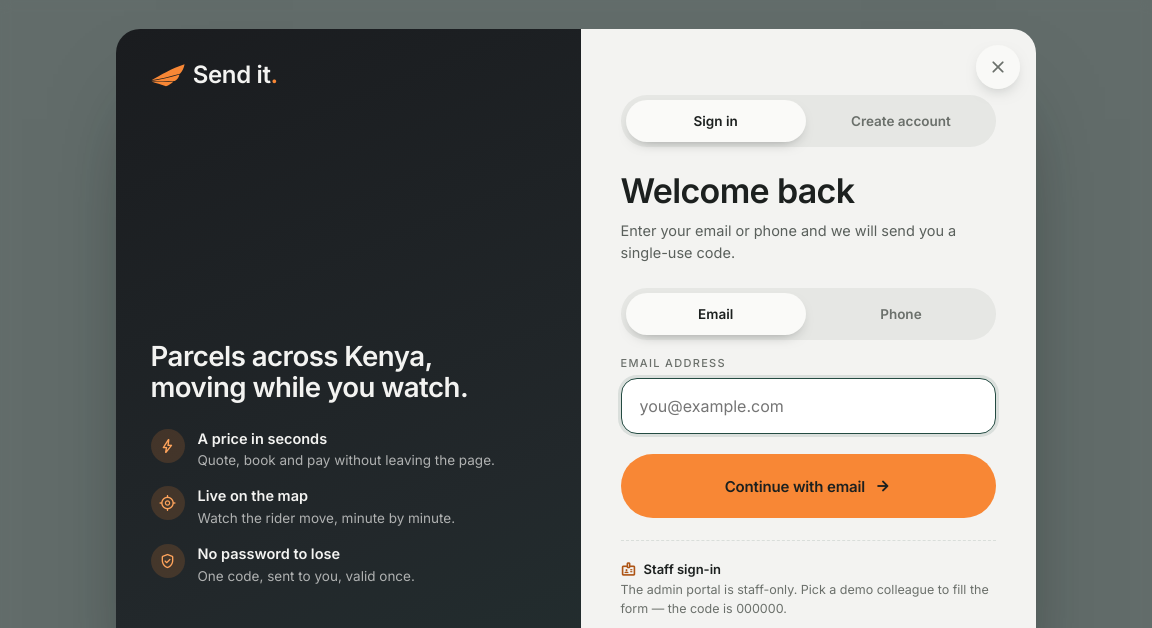
auth modal › does not advance on an email that cannot be one
Step 1. Type "rider@" into the field labelled "Email address" → (808, 406), box [620,378,996,434]
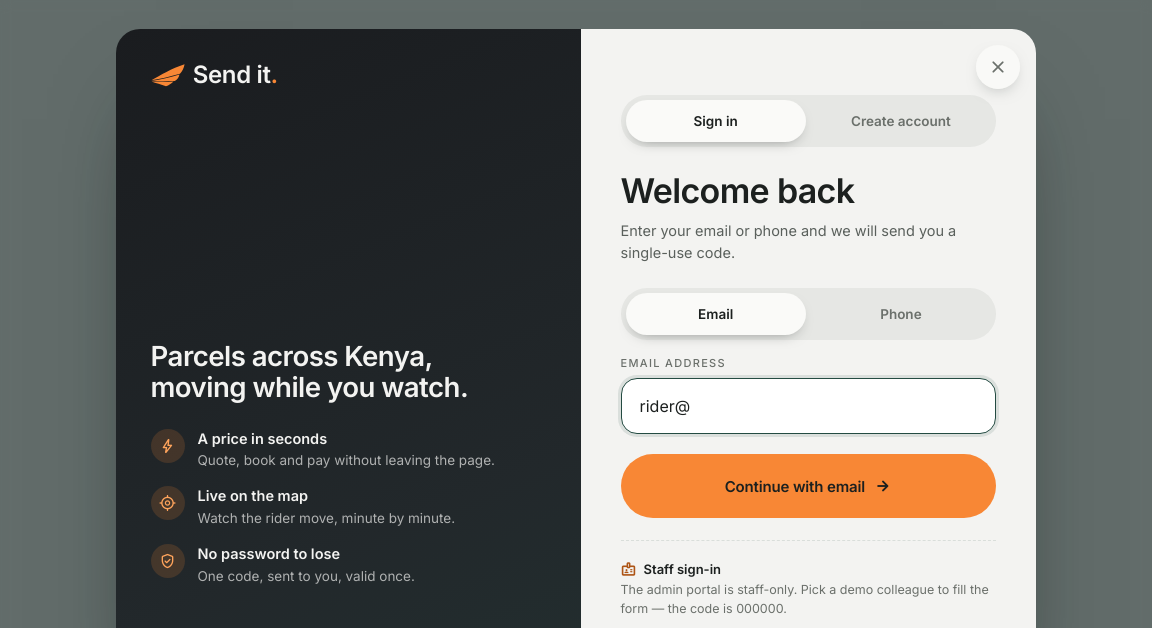
Step 2. Click the button "Continue with email" → click(808, 486), box [620,454,996,518]
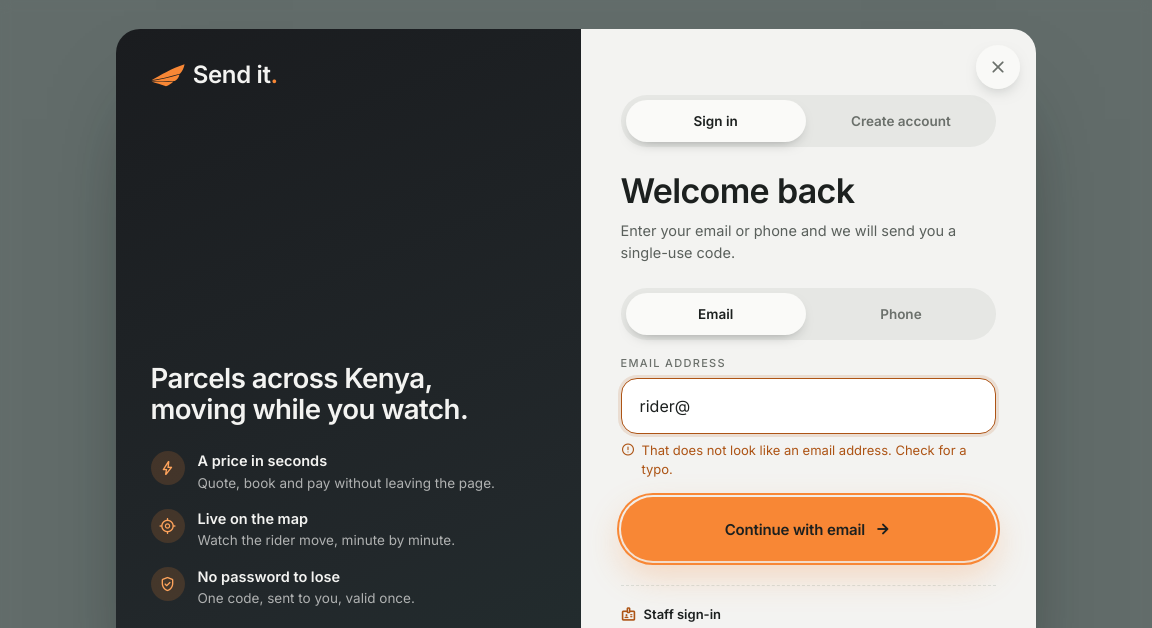
Expected: the text "That does not look like an email address. Check for a typo." is shown, [620,442,996,479]
